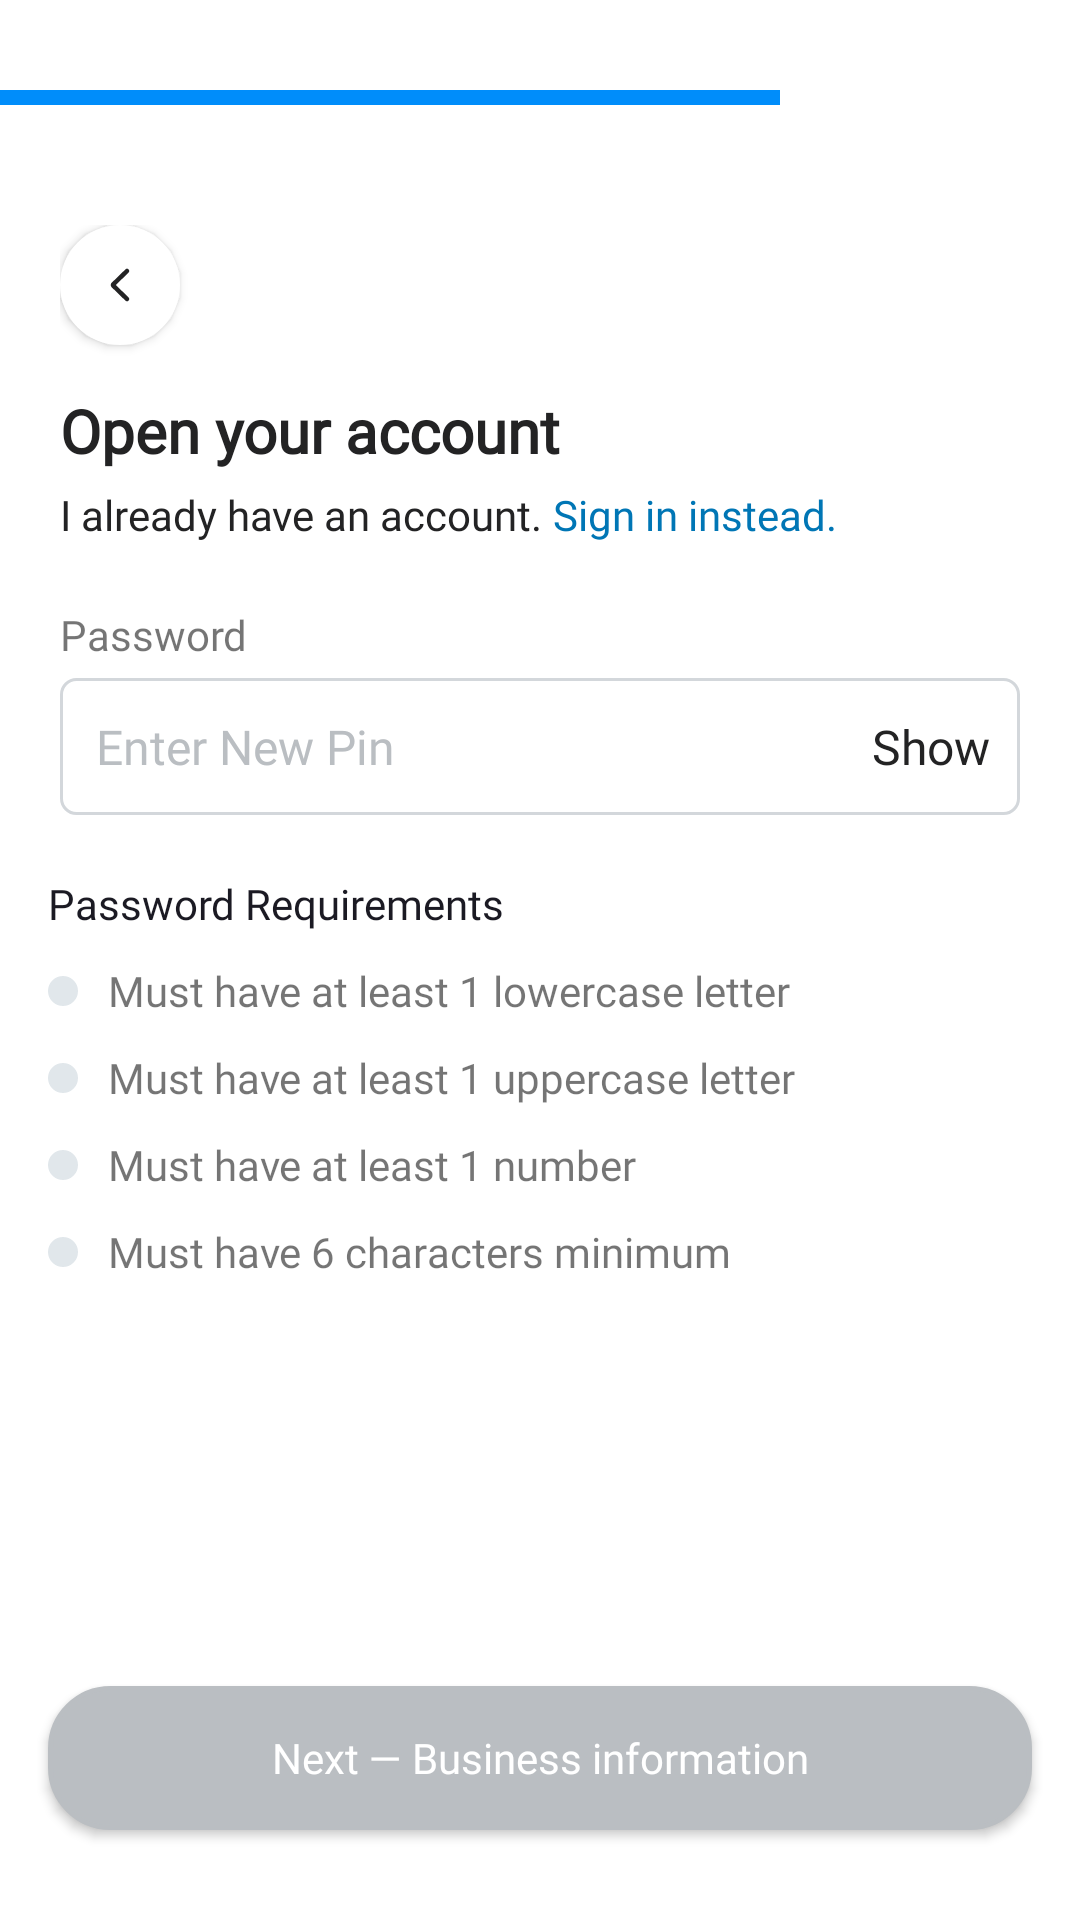

Icon click points for this 1080w x 1920h phone screenshot, format (x=x, y=y):
nav: (x=106, y=290)
